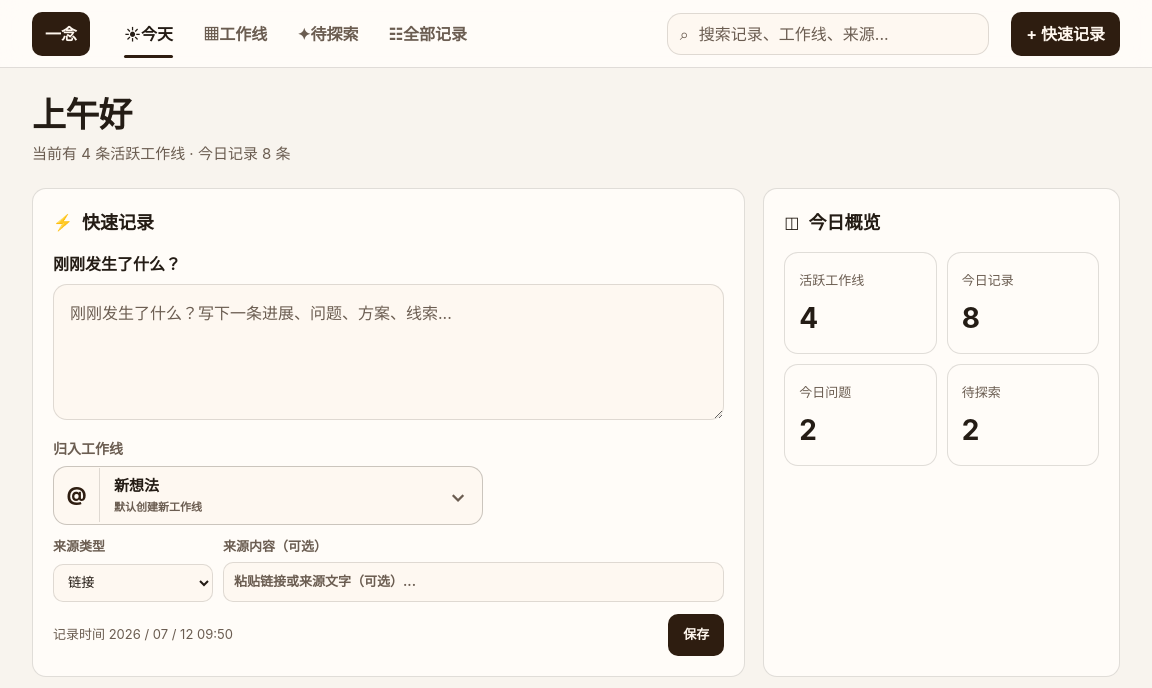
Test: Yinian six-page product shell › saves a new top-level idea without a parent
Expected: the heading "上午好" is shown, [32,94,132,135]
Click the button "▦工作线" at [235, 34], box [191,10,279,58]
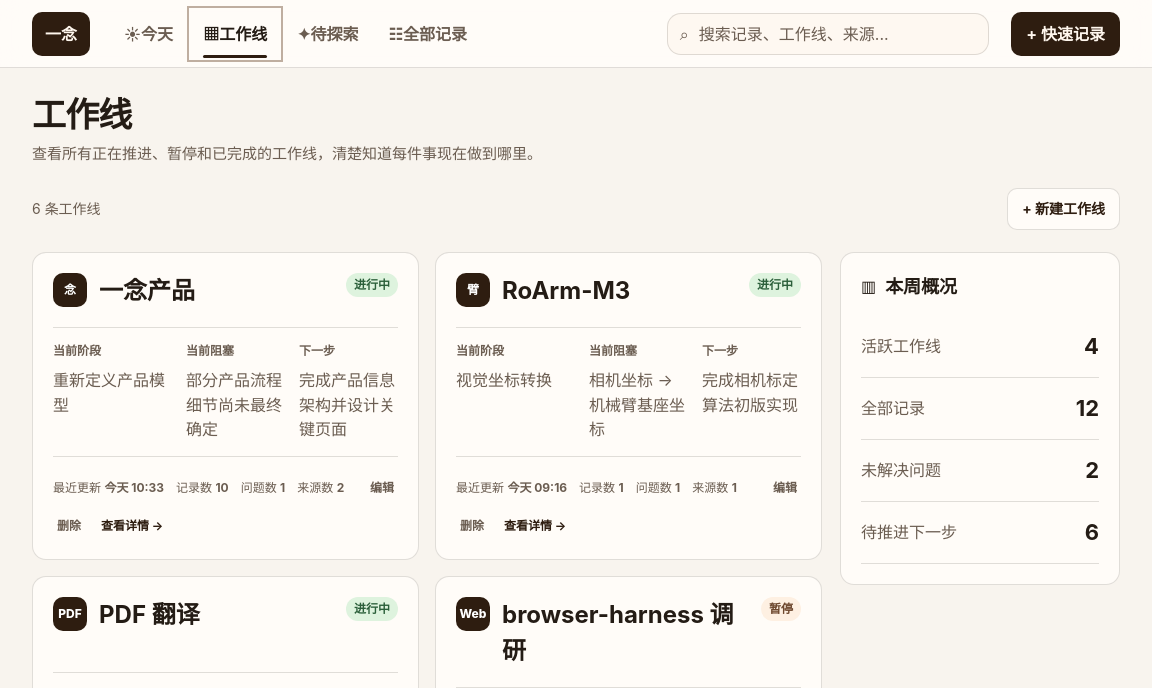
Click the button with aria-label "查看一念产品详情" at [132, 526], box [97,513,167,539]
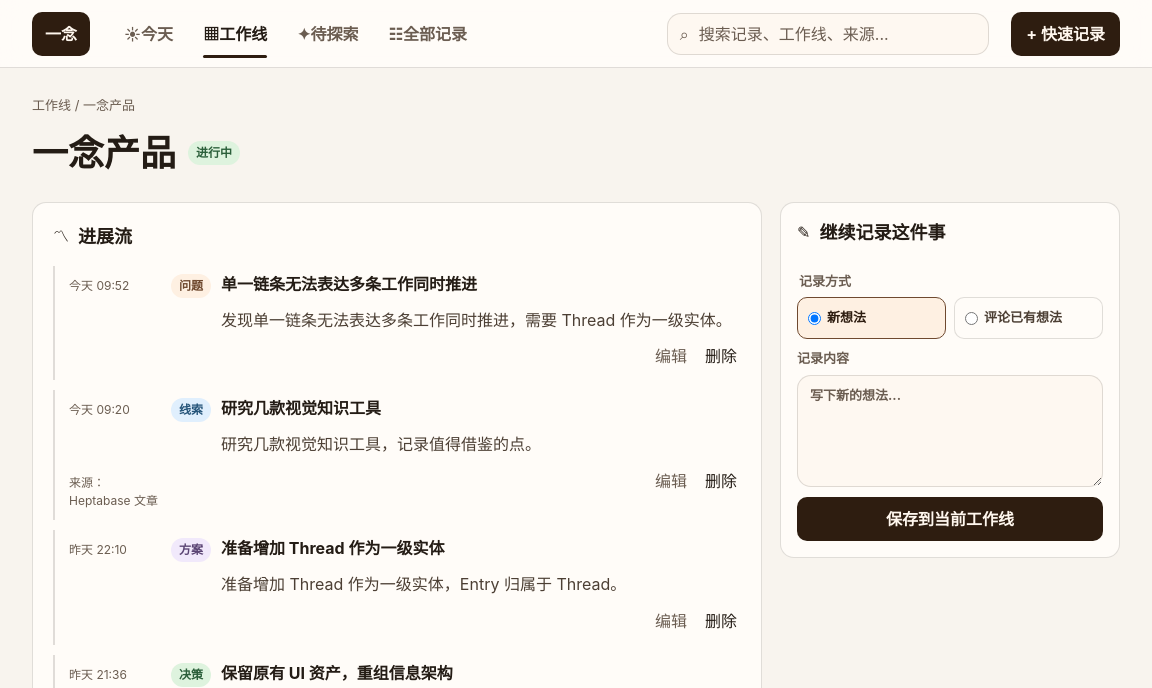
Expected: the radio button labelled "新想法" is checked, [808,312,821,324]
Type "一条独立的新想法。" into the text box labelled "记录内容" at [950, 430], box [797,374,1103,486]
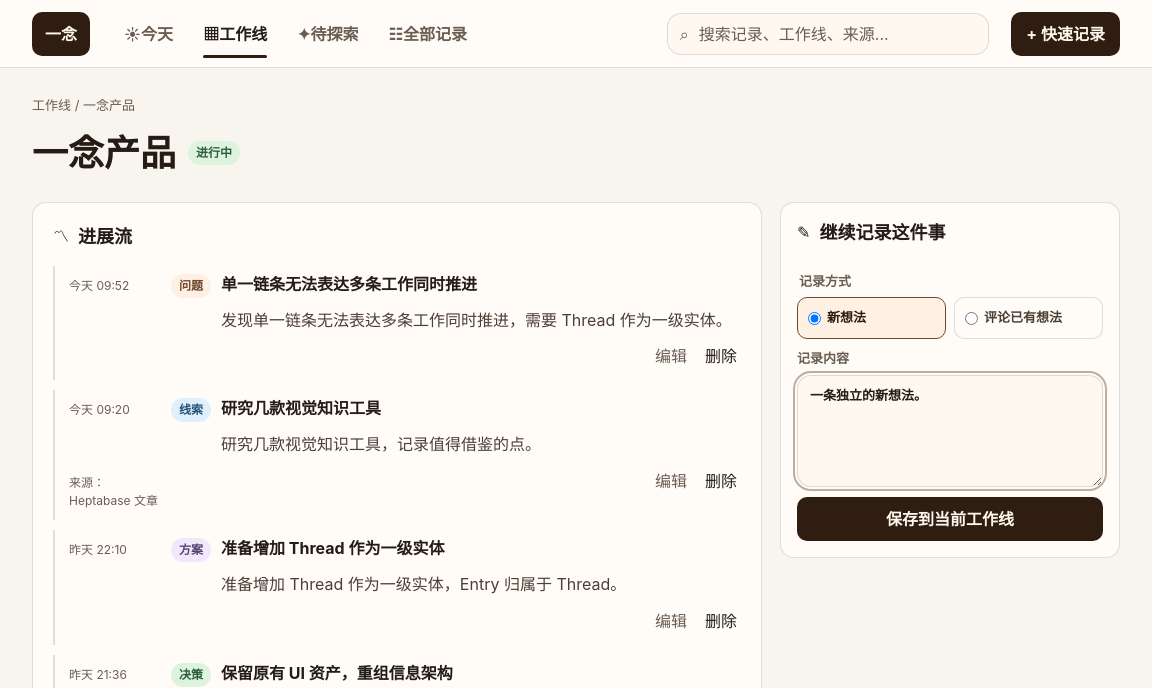
Click the button "保存到当前工作线" at [950, 518], box [797,496,1103,540]
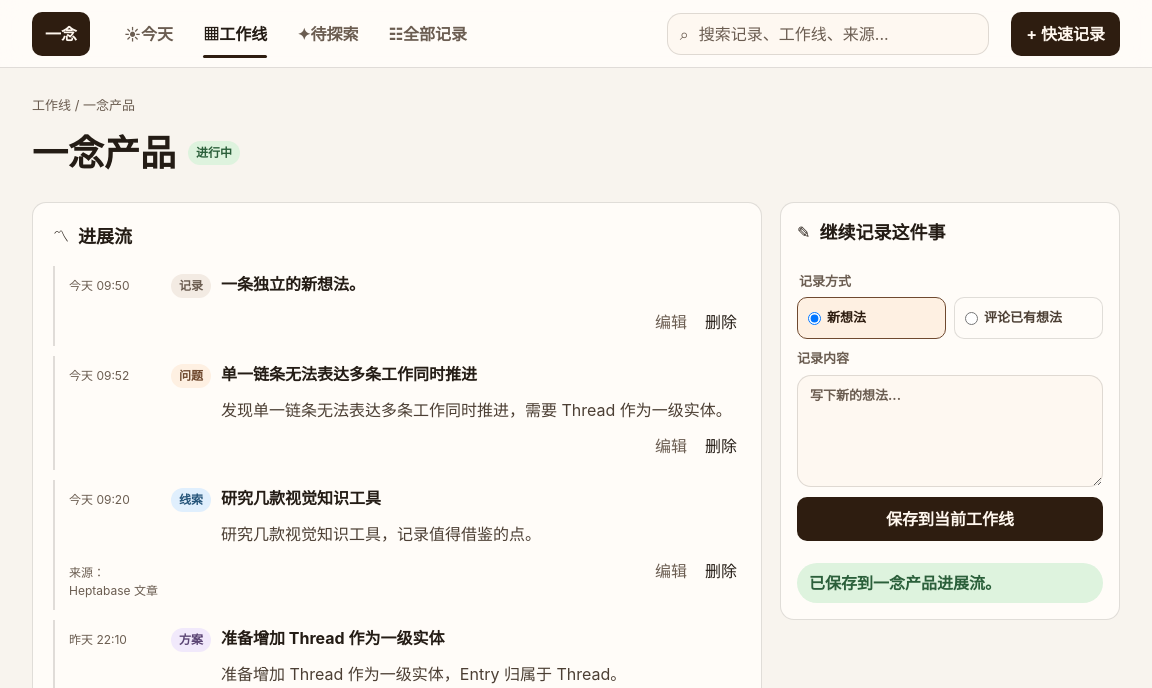
Expected: the text "一条独立的新想法。" is shown, [221,274,365,294]
